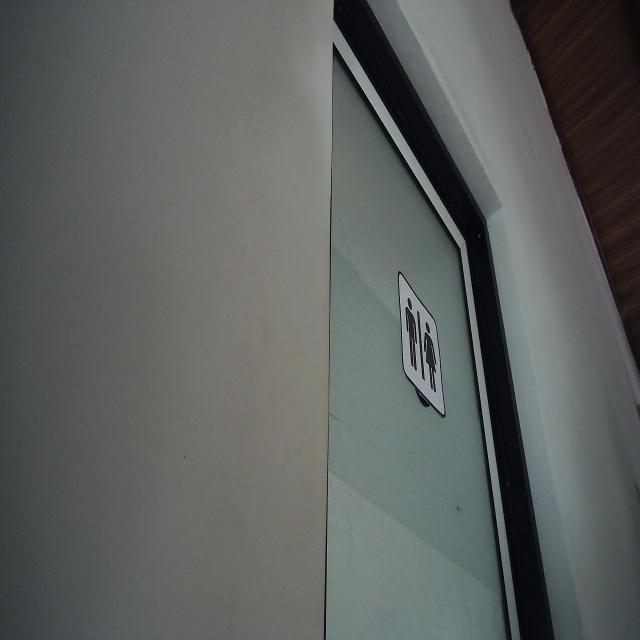restroom: (396, 265, 449, 422)
